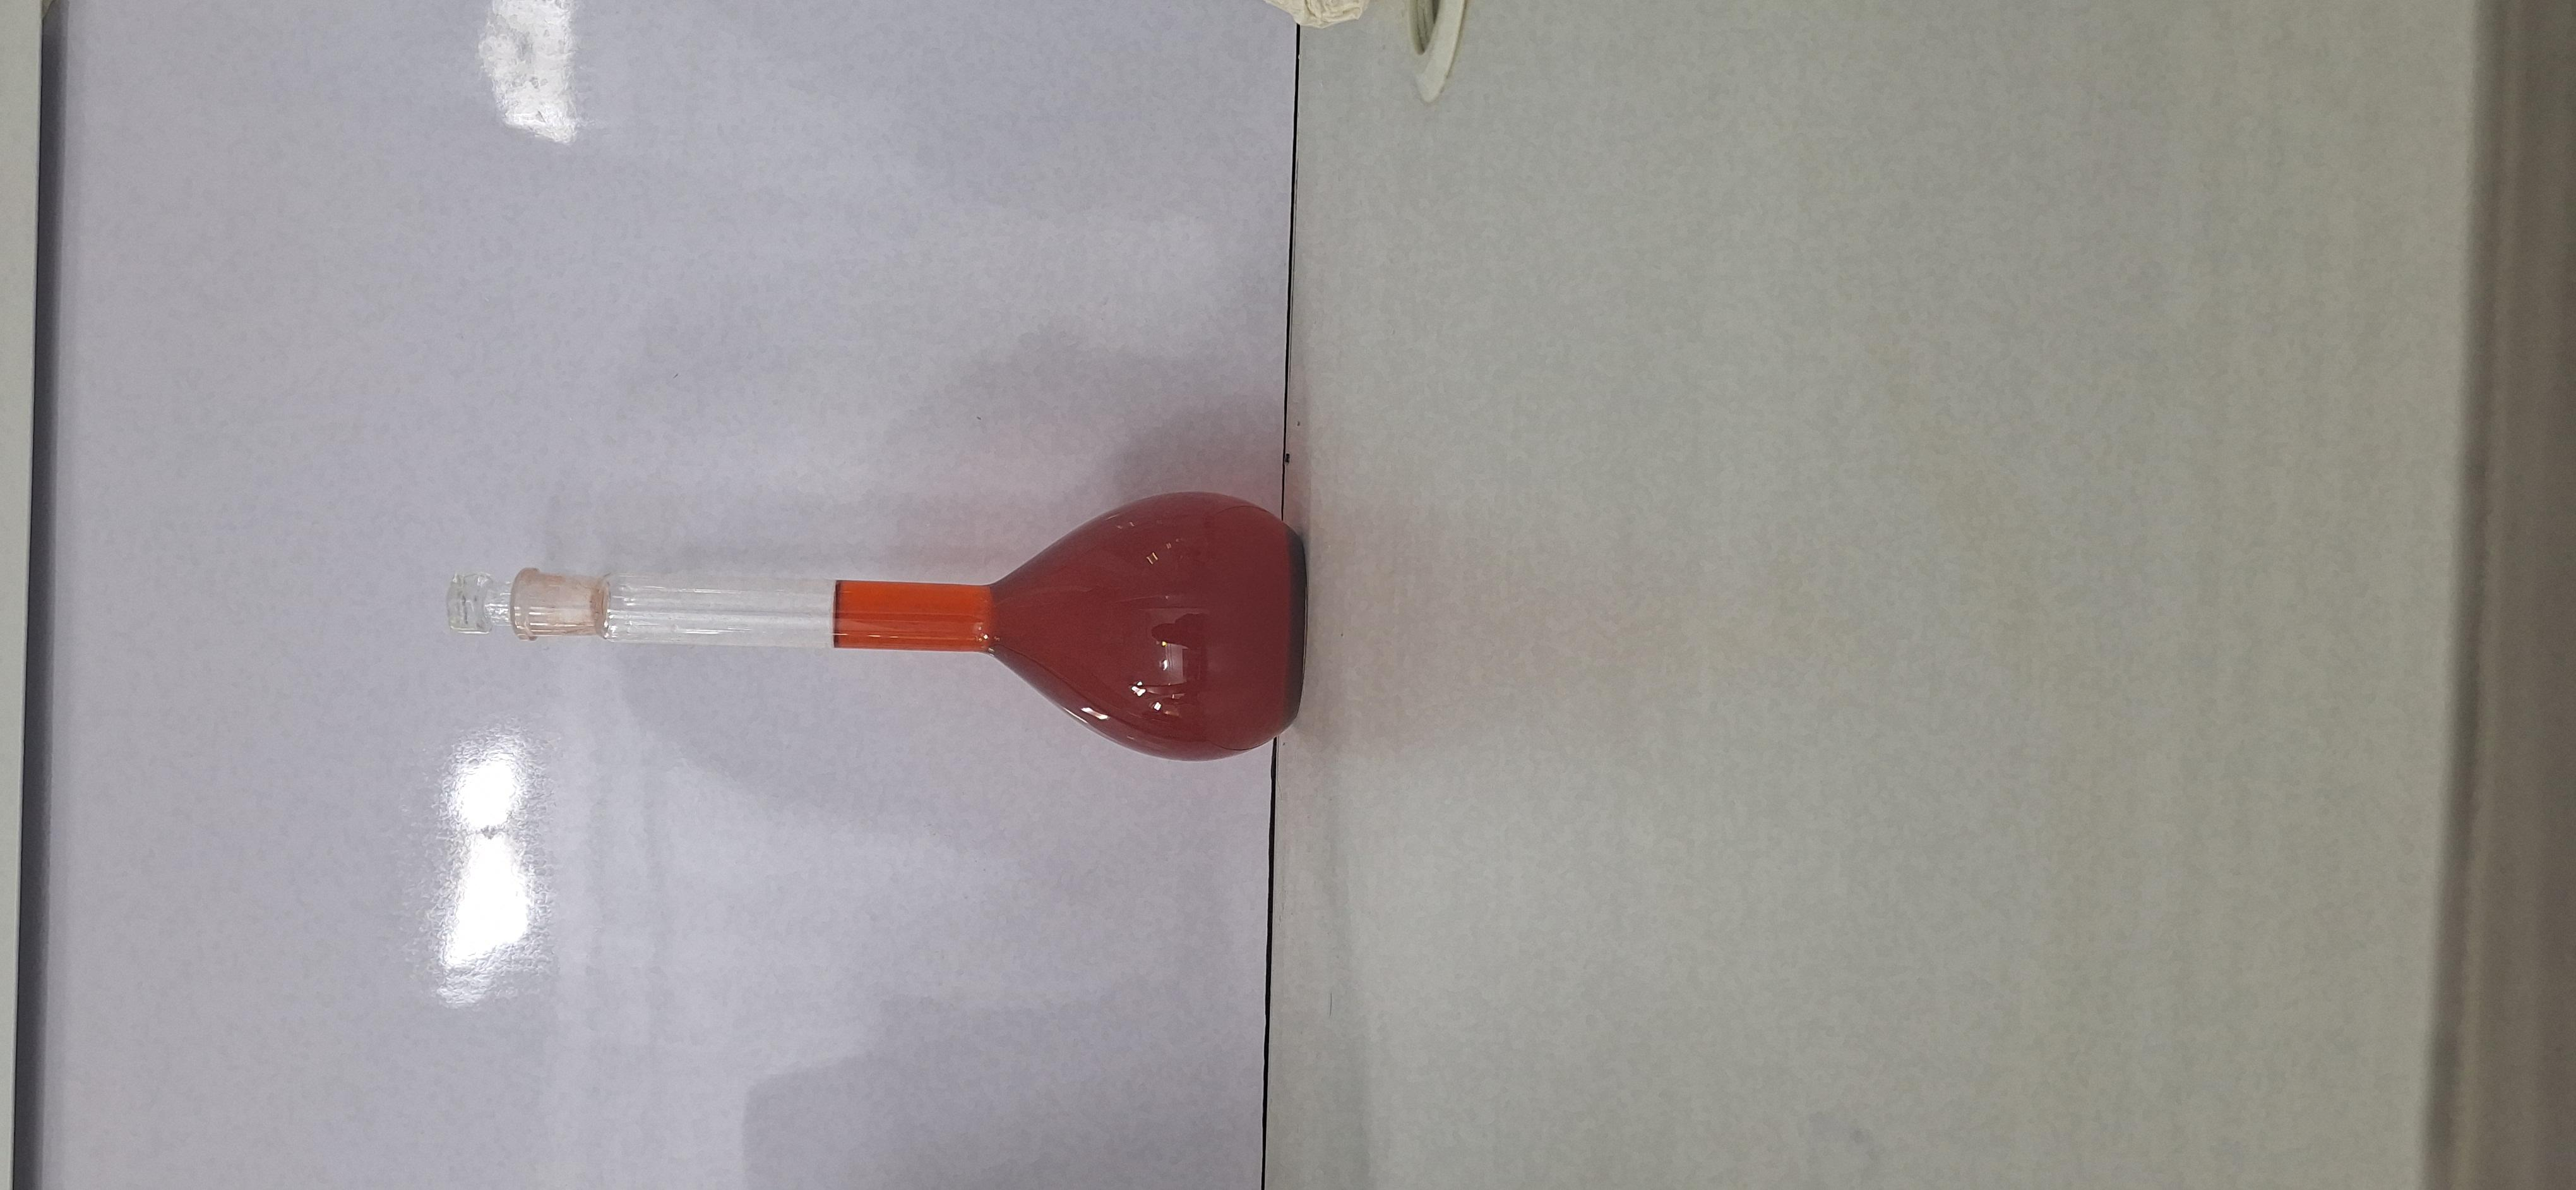Volumetric flask: (828, 196, 1615, 605)
